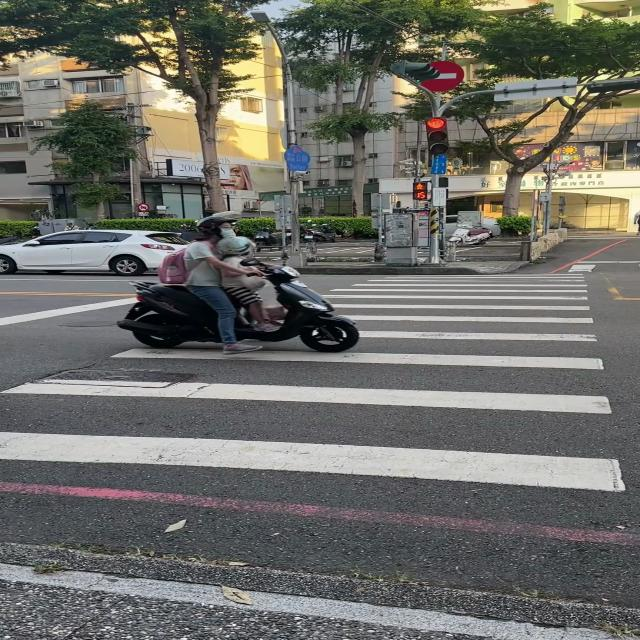car: (0, 230, 188, 275)
crosswalk: (0, 274, 629, 492), (566, 263, 598, 273)
motocycle: (236, 266, 357, 352), (119, 281, 221, 348)
